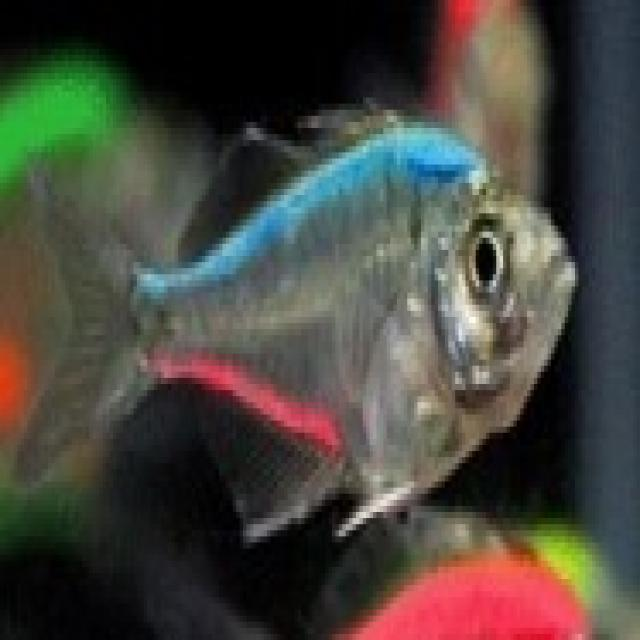Glass-Perchlet: (0, 49, 608, 548)
